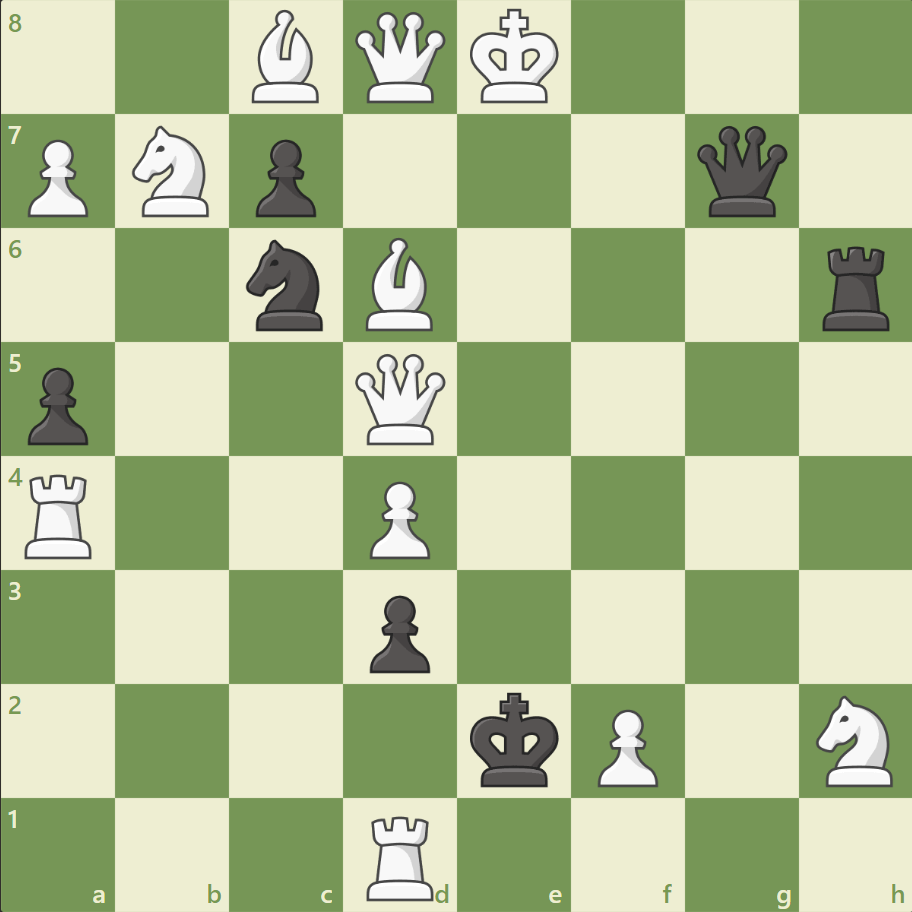B: (244, 6, 328, 109), (358, 233, 442, 336)
K: (465, 4, 565, 112)
N: (124, 121, 222, 223), (806, 688, 903, 791)
P: (20, 132, 95, 223), (361, 473, 435, 564), (588, 700, 662, 791)
Q: (351, 349, 450, 449), (351, 9, 450, 108)
R: (19, 466, 102, 563), (360, 806, 442, 904)
k: (465, 685, 565, 793)
n: (238, 234, 335, 337)
p: (247, 132, 322, 223), (20, 359, 95, 450), (361, 586, 435, 677)
q: (691, 122, 790, 222)
r: (814, 239, 897, 336)
